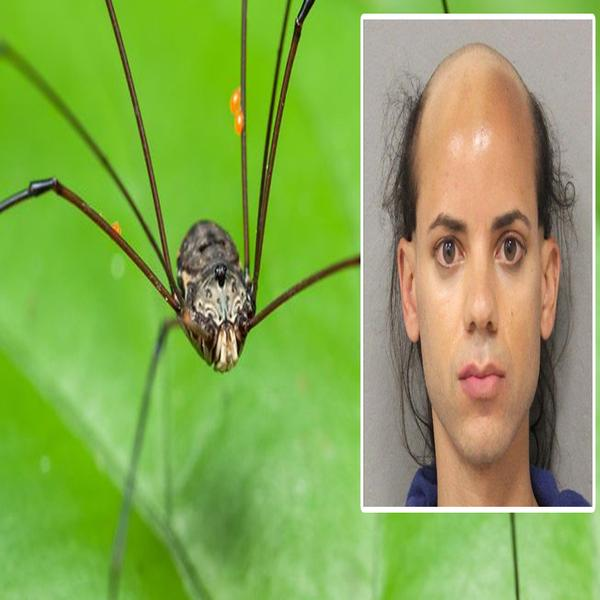Daddy Long Legs Spider: (7, 2, 360, 431)
